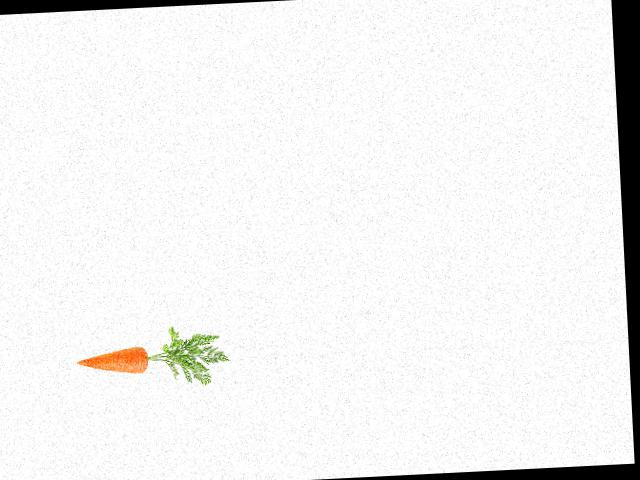carrot: (74, 338, 152, 383)
